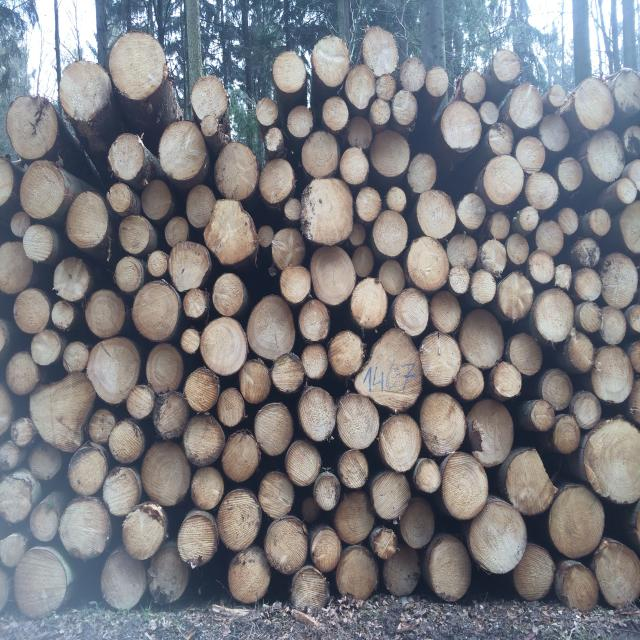wood-log: (356, 329, 421, 409), (580, 420, 638, 506), (30, 372, 95, 444), (470, 503, 528, 575), (548, 486, 605, 557), (107, 33, 163, 99), (17, 548, 72, 615), (302, 178, 355, 244), (86, 336, 139, 402), (503, 450, 556, 516), (202, 198, 256, 262), (143, 442, 194, 507), (6, 96, 57, 160), (248, 294, 298, 359), (56, 62, 110, 122), (443, 454, 490, 521), (469, 398, 515, 465), (594, 539, 640, 606), (58, 497, 109, 556), (417, 393, 464, 455), (156, 121, 205, 180), (132, 284, 180, 344), (426, 535, 471, 599), (458, 310, 506, 369), (200, 318, 248, 376), (217, 491, 262, 552), (310, 247, 356, 306), (20, 160, 66, 218), (101, 552, 146, 609), (64, 190, 108, 248), (376, 414, 419, 472), (590, 348, 634, 404), (264, 516, 307, 573), (338, 393, 381, 450), (406, 238, 450, 293), (512, 544, 555, 600), (214, 146, 257, 202), (530, 289, 574, 343), (417, 332, 461, 386), (148, 547, 190, 602), (440, 100, 482, 154), (336, 546, 378, 600), (123, 507, 166, 559), (335, 491, 376, 545), (166, 244, 211, 292), (298, 388, 338, 442), (230, 549, 270, 603), (178, 511, 218, 565), (599, 253, 638, 308), (184, 416, 226, 466), (254, 403, 294, 455), (190, 76, 229, 128), (483, 157, 525, 205), (222, 432, 262, 482), (575, 79, 614, 130), (371, 471, 412, 519), (350, 277, 388, 328), (86, 291, 126, 339), (416, 190, 456, 238), (311, 38, 350, 87), (399, 499, 436, 550), (368, 130, 409, 176), (71, 448, 110, 496), (144, 342, 182, 391), (101, 468, 140, 515), (586, 134, 624, 182), (381, 547, 418, 596), (259, 472, 297, 518), (329, 331, 366, 378), (392, 289, 428, 337), (15, 289, 53, 334), (303, 131, 339, 178), (560, 563, 596, 610), (258, 159, 296, 203), (284, 441, 321, 486), (152, 393, 189, 438), (0, 241, 32, 293), (496, 273, 532, 319), (373, 209, 408, 256), (111, 135, 146, 182), (55, 258, 92, 302), (364, 30, 399, 75), (509, 84, 544, 129), (184, 368, 219, 412), (108, 420, 143, 462), (293, 569, 328, 611), (271, 228, 306, 270), (192, 468, 226, 511), (214, 273, 248, 316), (430, 290, 462, 335), (5, 353, 39, 395), (508, 334, 542, 376), (238, 360, 270, 404), (344, 66, 376, 110), (120, 216, 156, 255), (274, 52, 308, 93), (0, 477, 32, 520), (613, 67, 640, 116), (312, 529, 342, 573), (524, 172, 558, 210), (271, 355, 305, 393), (140, 180, 172, 220), (299, 300, 330, 341), (564, 332, 595, 373), (23, 225, 57, 262), (279, 265, 312, 303), (185, 186, 214, 229), (543, 370, 573, 409), (491, 362, 522, 399), (408, 155, 438, 193), (218, 388, 247, 427), (553, 416, 582, 455), (619, 201, 640, 254), (339, 450, 369, 487), (340, 149, 370, 186), (456, 365, 486, 402), (30, 503, 59, 541), (30, 330, 62, 364), (113, 256, 143, 292), (492, 49, 522, 85), (456, 195, 486, 230), (312, 475, 340, 512), (29, 446, 61, 478), (516, 137, 546, 171), (542, 118, 572, 152), (414, 460, 443, 495), (602, 307, 628, 345), (126, 385, 155, 419), (298, 344, 327, 378), (537, 222, 565, 257), (479, 239, 507, 274), (378, 260, 406, 295), (285, 190, 308, 232), (571, 268, 601, 300), (448, 234, 477, 267), (574, 393, 602, 427), (356, 187, 382, 223), (558, 155, 583, 192), (399, 58, 427, 91), (322, 96, 349, 130), (90, 409, 116, 444), (472, 271, 498, 305), (528, 250, 554, 283), (446, 260, 471, 294), (63, 342, 91, 372), (345, 116, 372, 147), (529, 400, 554, 433), (392, 92, 417, 125), (577, 302, 603, 333), (0, 533, 26, 564), (165, 215, 189, 248), (372, 526, 396, 558), (288, 108, 312, 139), (352, 245, 374, 278), (52, 301, 76, 331), (108, 184, 132, 214), (508, 234, 530, 266), (462, 74, 485, 104), (0, 158, 14, 206), (577, 238, 601, 266), (428, 67, 451, 96), (490, 125, 512, 155), (183, 290, 206, 318), (623, 124, 640, 159), (257, 98, 279, 125), (10, 209, 31, 237), (590, 208, 611, 235), (370, 98, 391, 125), (0, 386, 12, 432), (532, 217, 561, 236), (490, 214, 510, 241), (628, 379, 640, 424), (558, 208, 578, 234), (148, 250, 168, 276), (618, 177, 637, 204), (548, 84, 568, 109), (519, 207, 540, 230), (388, 188, 407, 212), (480, 102, 500, 124), (284, 199, 300, 222), (629, 342, 640, 372), (0, 320, 10, 352), (629, 304, 640, 332), (633, 506, 640, 547), (629, 160, 640, 185)
